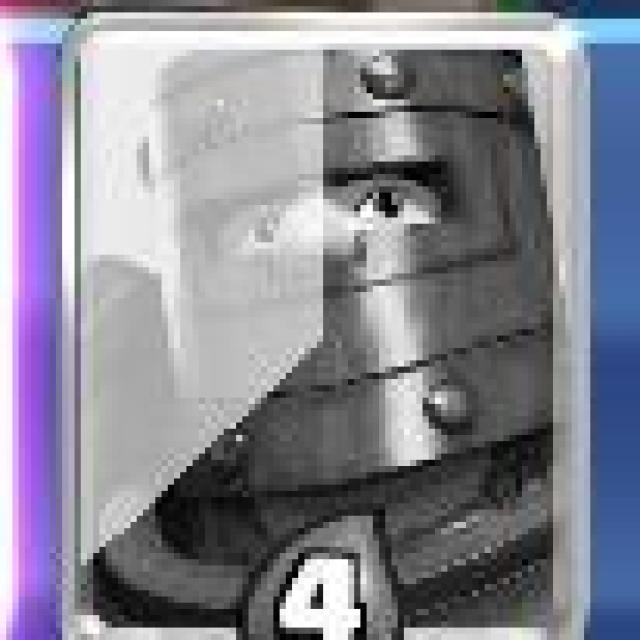Dark_Prince: (60, 6, 589, 640)
